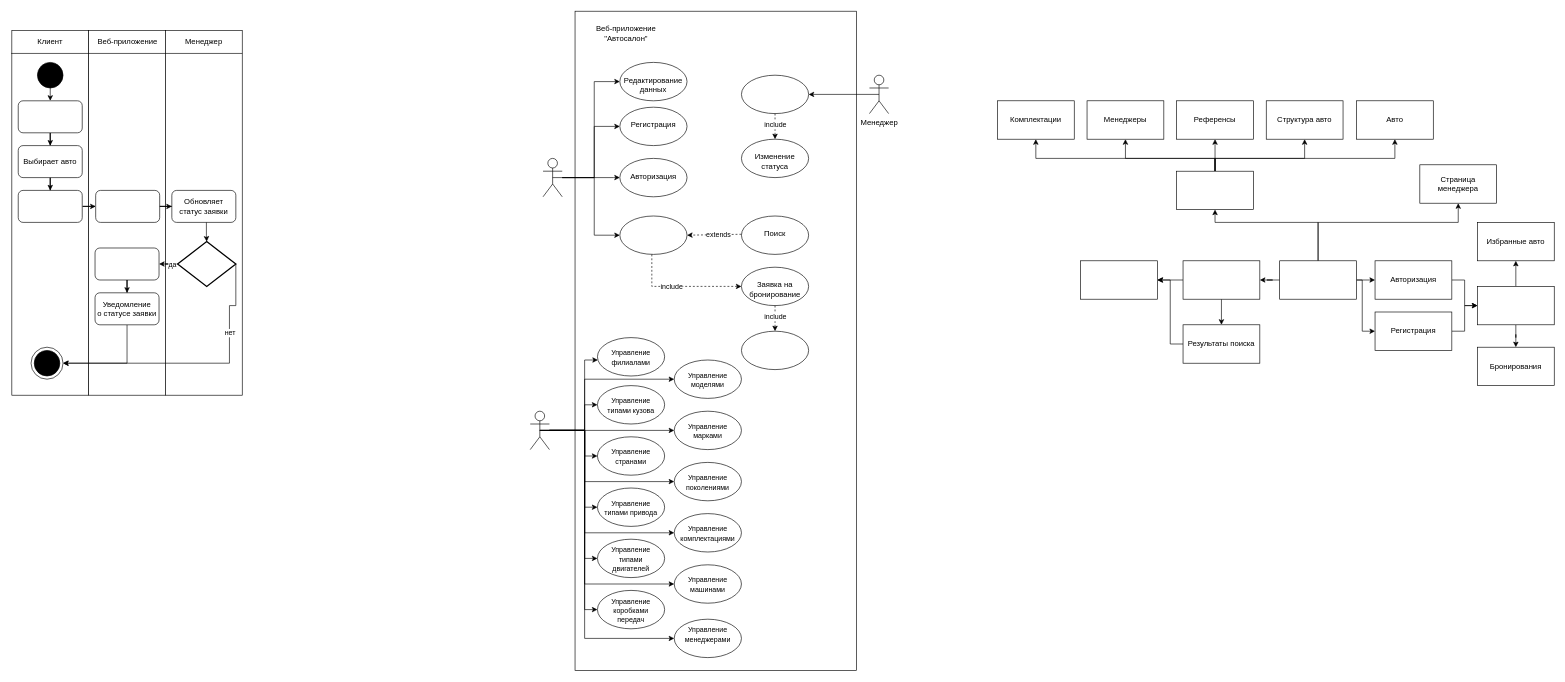
The diagram is 1565 pixels wide and 682 high, and some of its shapes have lost their labels. Here are the shapes that lost their labels. From the top down, the centre of each, then its label:
point 775,94: Просмотр заявок
point 50,116: Регистрируется / Авторизируется
point 552,177: Пользователь
point 1214,190: Страница администратора
point 50,206: Оформляет заявку на бронирование
point 127,206: Создает заявку
point 653,234: Выбор авто
point 126,263: Снимает авто с продажи
point 206,264: заявка подтверждена
point 1118,279: Страница авто
point 1221,279: Каталог
point 1317,279: Главная страница
point 1515,305: Личный кабинет
point 775,350: Отмена завяки
point 539,430: Администратор
